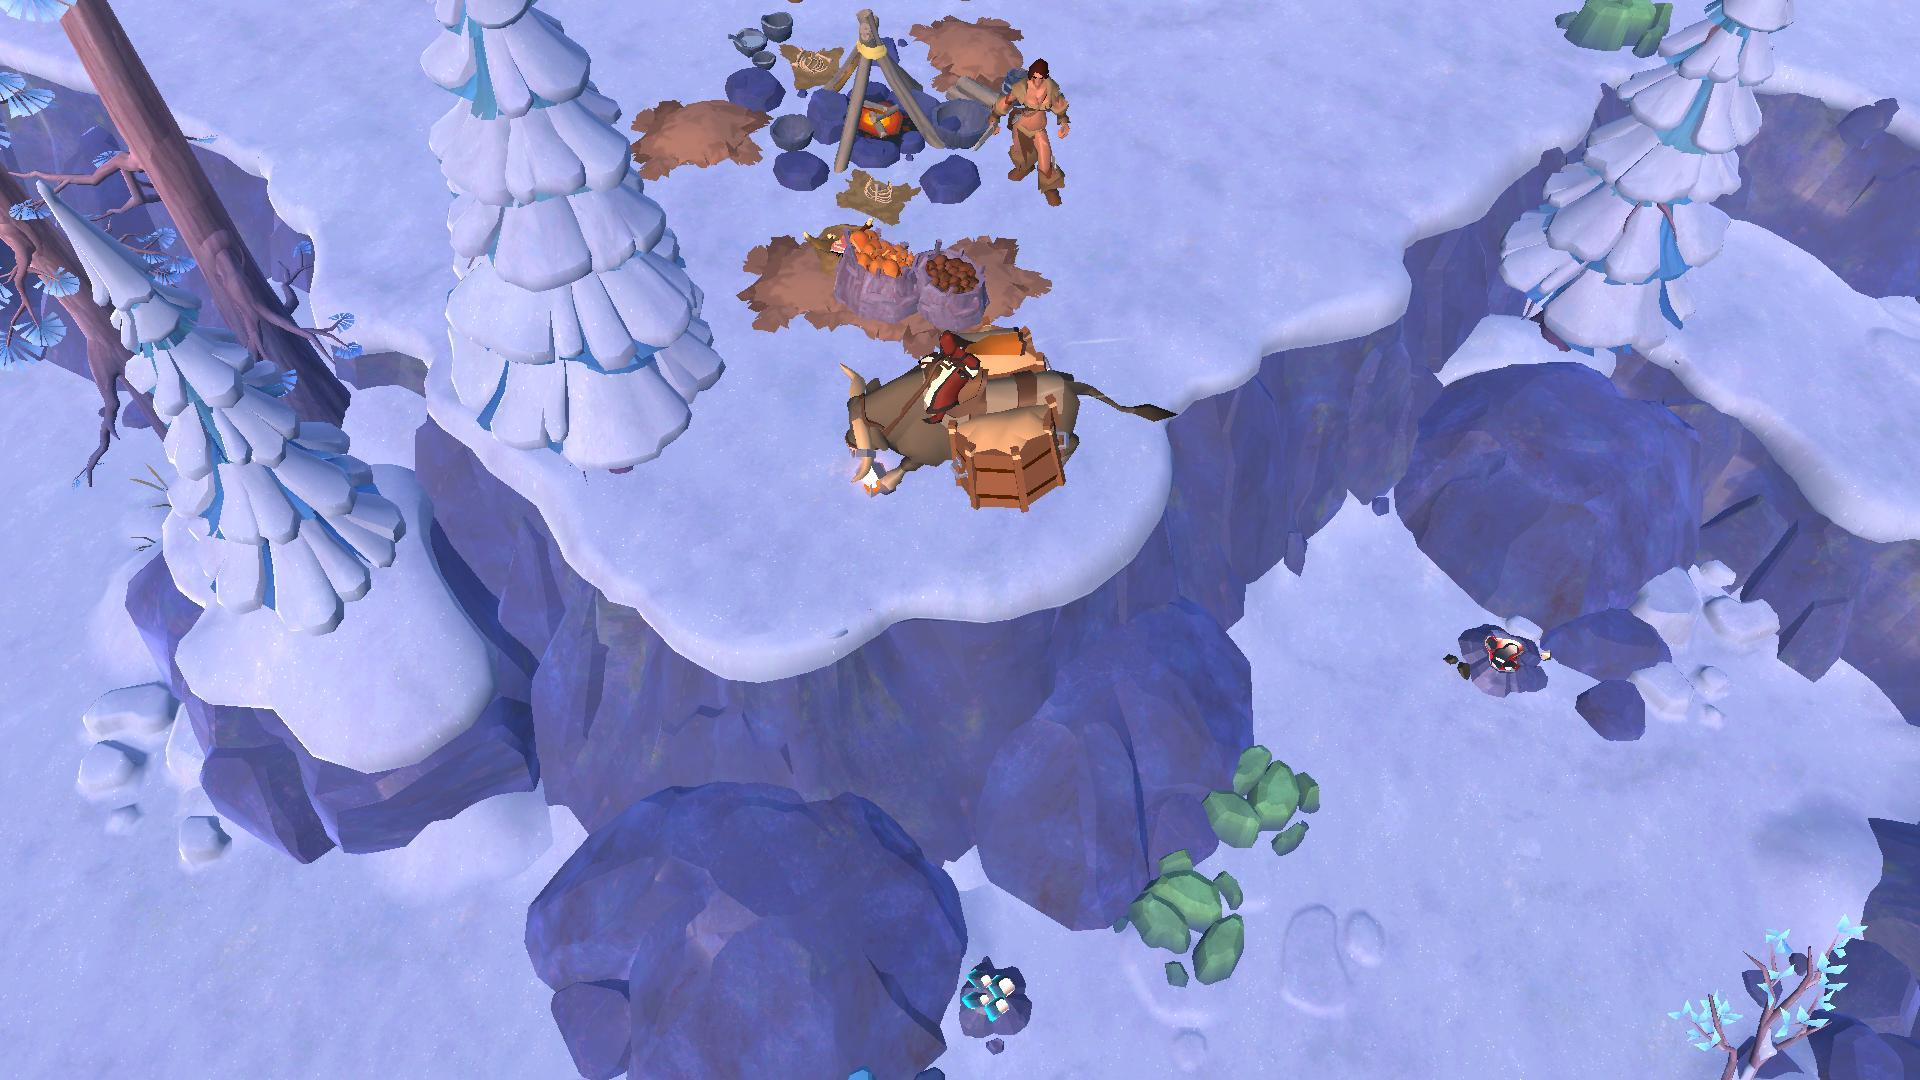enemy_factionKeeper: (994, 61, 1076, 208)
ore_t4: (956, 961, 1022, 1022)
rock_t3: (1126, 852, 1250, 985), (1199, 742, 1327, 852), (1547, 0, 1677, 62)
